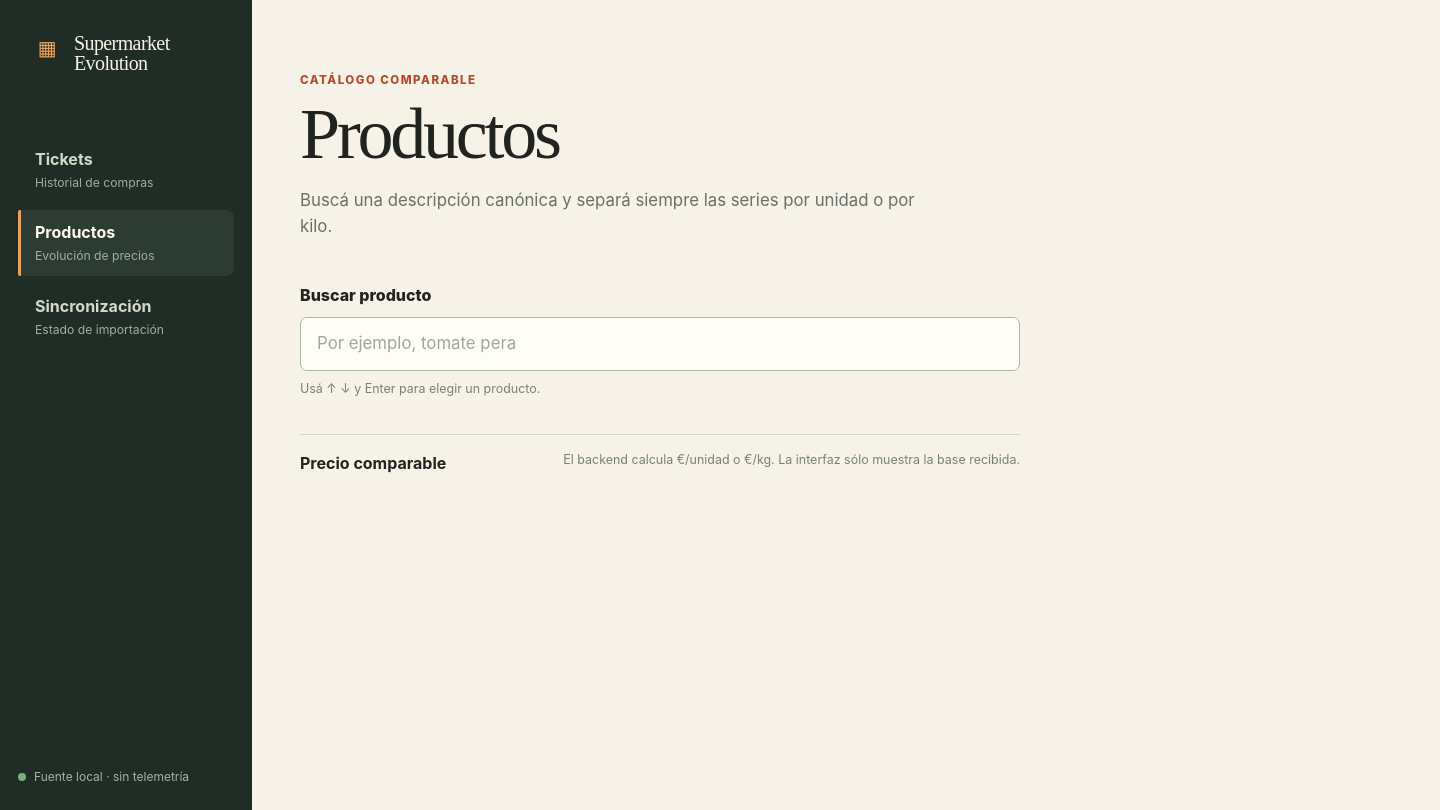
Test case: shows empty product search results
The image size is (1440, 810).
Type "zzz" into the dropdown labelled "Buscar producto" at (660,344), box [300,317,1020,371]
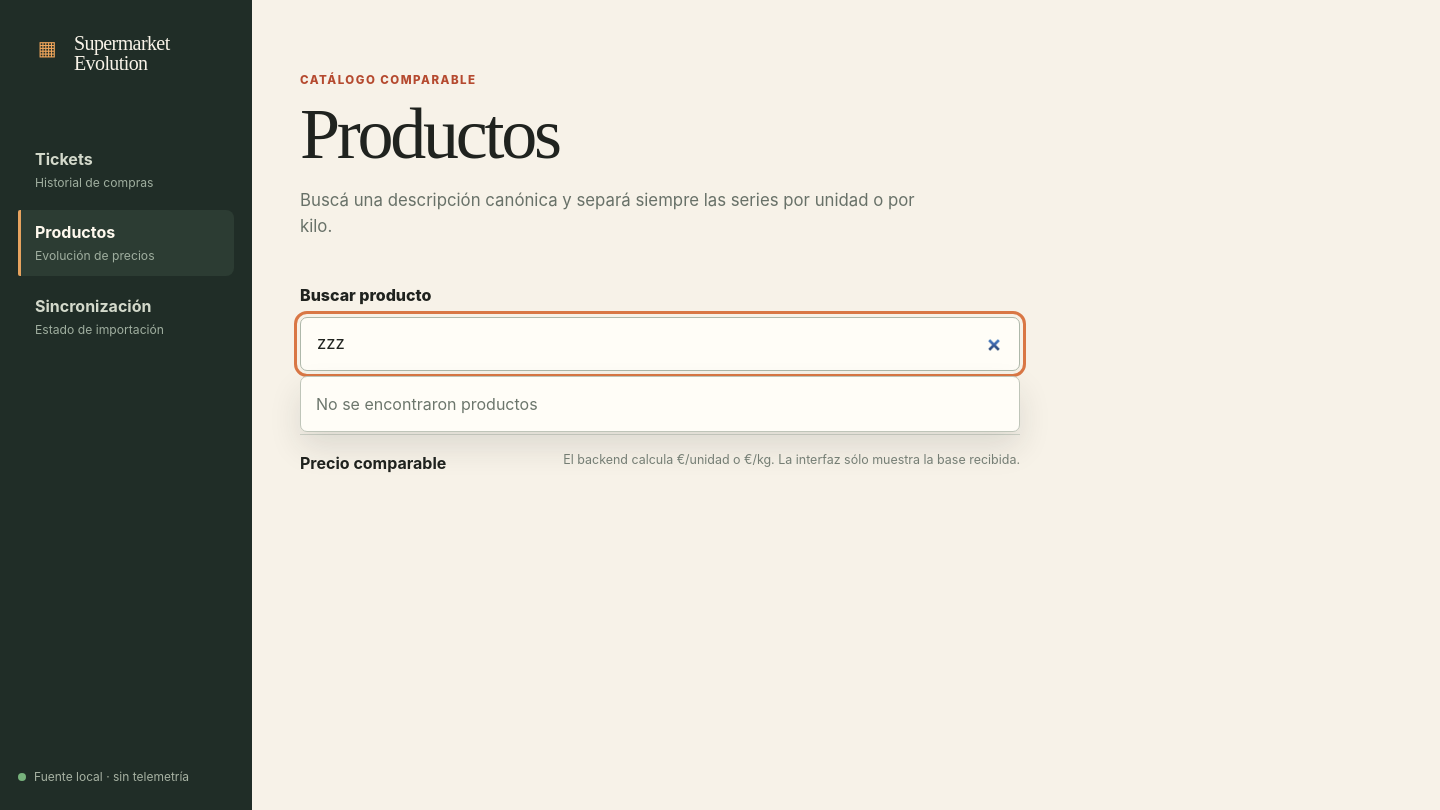
Now the text "No se encontraron productos" is shown, box [316,394,538,414]
